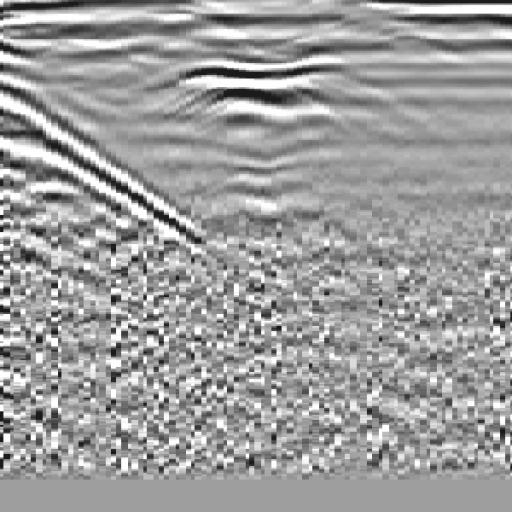metalic: (137, 38, 399, 291)
